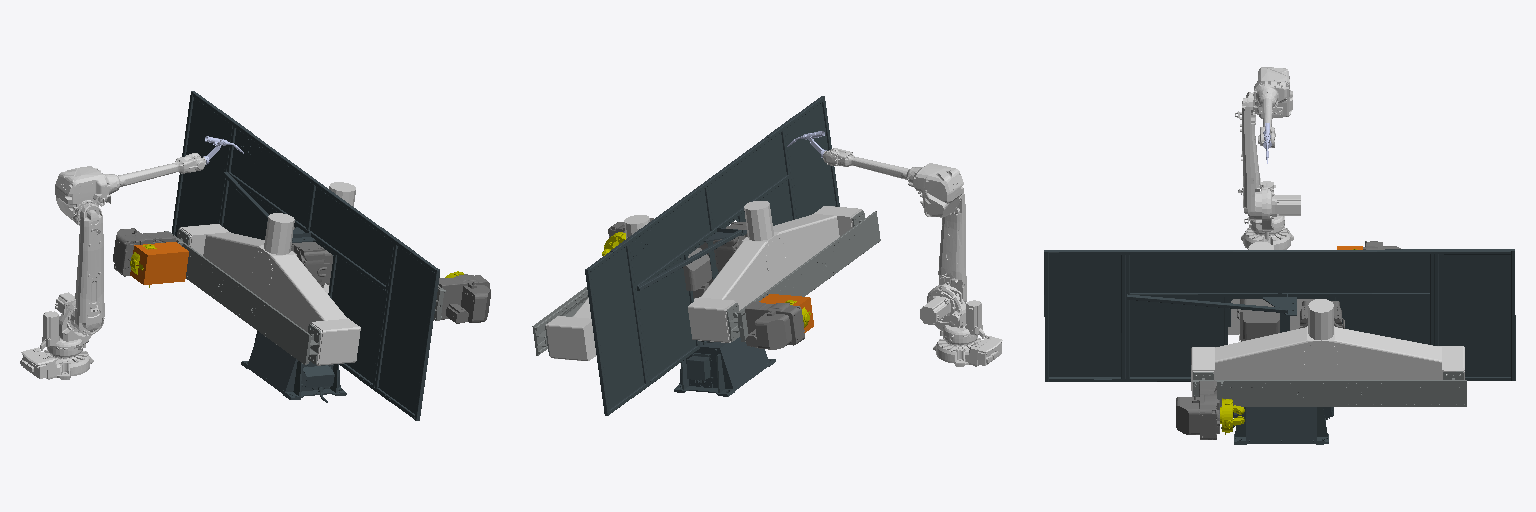
robot.urdf — monarc_irb4600_irbp_d600:
<?xml version="1.0" ?>
<robot name="monarc_irb4600_irbp_d600">
  <!-- MONARC cell: ABB IRB 4600-20/2.50 + IRBP D600 L2000 D1200 (2 stations). Generated by build_meshes.py + build_urdf.py. Do not hand-edit; see tgs_urdf_from_robotstudio_v1.md for the provenance of every number. -->
  <link name="base"/>
  <link name="linear_rail"/>
  <link name="base_link">
    <visual>
      <origin xyz="0 0 0" rpy="0 0 0"/>
      <geometry>
        <mesh filename="meshes/abb_base_m.stl"/>
      </geometry>
      <material name="base_link_material">
        <color rgba="0.8431 0.8431 0.8431 1.0"/>
      </material>
    </visual>
    <collision>
      <origin xyz="0 0 0" rpy="0 0 0"/>
      <geometry>
        <mesh filename="meshes/abb_base_m.stl"/>
      </geometry>
    </collision>
  </link>
  <link name="link_1">
    <visual>
      <origin xyz="0 0 0" rpy="0 0 0"/>
      <geometry>
        <mesh filename="meshes/abb_link_1_m.stl"/>
      </geometry>
      <material name="link_1_material">
        <color rgba="0.8431 0.8431 0.8431 1.0"/>
      </material>
    </visual>
    <collision>
      <origin xyz="0 0 0" rpy="0 0 0"/>
      <geometry>
        <mesh filename="meshes/abb_link_1_m.stl"/>
      </geometry>
    </collision>
  </link>
  <link name="link_2">
    <visual>
      <origin xyz="0 0 0" rpy="0 0 0"/>
      <geometry>
        <mesh filename="meshes/abb_link_2_m.stl"/>
      </geometry>
      <material name="link_2_material">
        <color rgba="0.8431 0.8431 0.8431 1.0"/>
      </material>
    </visual>
    <collision>
      <origin xyz="0 0 0" rpy="0 0 0"/>
      <geometry>
        <mesh filename="meshes/abb_link_2_m.stl"/>
      </geometry>
    </collision>
  </link>
  <link name="link_3">
    <visual>
      <origin xyz="0 0 0" rpy="0 0 0"/>
      <geometry>
        <mesh filename="meshes/abb_link_3_m.stl"/>
      </geometry>
      <material name="link_3_material">
        <color rgba="0.8431 0.8431 0.8431 1.0"/>
      </material>
    </visual>
    <collision>
      <origin xyz="0 0 0" rpy="0 0 0"/>
      <geometry>
        <mesh filename="meshes/abb_link_3_m.stl"/>
      </geometry>
    </collision>
  </link>
  <link name="link_4">
    <visual>
      <origin xyz="0 0 0" rpy="0 0 0"/>
      <geometry>
        <mesh filename="meshes/abb_link_4_m.stl"/>
      </geometry>
      <material name="link_4_material">
        <color rgba="0.8431 0.8431 0.8431 1.0"/>
      </material>
    </visual>
    <collision>
      <origin xyz="0 0 0" rpy="0 0 0"/>
      <geometry>
        <mesh filename="meshes/abb_link_4_m.stl"/>
      </geometry>
    </collision>
  </link>
  <link name="link_5">
    <visual>
      <origin xyz="0 0 0" rpy="0 0 0"/>
      <geometry>
        <mesh filename="meshes/abb_link_5_m.stl"/>
      </geometry>
      <material name="link_5_material">
        <color rgba="0.8431 0.8431 0.8431 1.0"/>
      </material>
    </visual>
    <collision>
      <origin xyz="0 0 0" rpy="0 0 0"/>
      <geometry>
        <mesh filename="meshes/abb_link_5_m.stl"/>
      </geometry>
    </collision>
  </link>
  <link name="link_6">
    <visual>
      <origin xyz="0 0 0" rpy="0 0 0"/>
      <geometry>
        <mesh filename="meshes/abb_link_6_m.stl"/>
      </geometry>
      <material name="link_6_material">
        <color rgba="0.8431 0.8431 0.8431 1.0"/>
      </material>
    </visual>
    <collision>
      <origin xyz="0 0 0" rpy="0 0 0"/>
      <geometry>
        <mesh filename="meshes/abb_link_6_m.stl"/>
      </geometry>
    </collision>
  </link>
  <link name="flange"/>
  <link name="tool0"/>
  <link name="torch">
    <visual>
      <origin xyz="0 0 0" rpy="0 0 0"/>
      <geometry>
        <mesh filename="meshes/torch_m.stl"/>
      </geometry>
      <material name="torch_material">
        <color rgba="0.7922 0.8196 0.9333 1.0"/>
      </material>
    </visual>
    <collision>
      <origin xyz="0 0 0" rpy="0 0 0"/>
      <geometry>
        <mesh filename="meshes/torch_m.stl"/>
      </geometry>
    </collision>
  </link>
  <link name="tcp_torch"/>
  <link name="positioner_base">
    <visual>
      <origin xyz="0 0 0" rpy="0 0 0"/>
      <geometry>
        <mesh filename="meshes/pos_interchange_base_m.stl"/>
      </geometry>
      <material name="positioner_base_material">
        <color rgba="0.2824 0.3294 0.349 1.0"/>
      </material>
    </visual>
    <collision>
      <origin xyz="0 0 0" rpy="0 0 0"/>
      <geometry>
        <mesh filename="meshes/pos_interchange_base_m.stl"/>
      </geometry>
    </collision>
  </link>
  <link name="positioner_index"/>
  <link name="pos_turntable">
    <visual>
      <origin xyz="0 0 0" rpy="0 0 0"/>
      <geometry>
        <mesh filename="meshes/pos_turntable_m.stl"/>
      </geometry>
      <material name="pos_turntable_material">
        <color rgba="0.8431 0.8431 0.8431 1.0"/>
      </material>
    </visual>
    <collision>
      <origin xyz="0 0 0" rpy="0 0 0"/>
      <geometry>
        <mesh filename="meshes/pos_turntable_m.stl"/>
      </geometry>
    </collision>
  </link>
  <link name="pos_bearing_stn1">
    <visual>
      <origin xyz="0 0 0" rpy="0 0 0"/>
      <geometry>
        <mesh filename="meshes/pos_bearing_stn1_m.stl"/>
      </geometry>
      <material name="pos_bearing_stn1_material">
        <color rgba="0.498 0.498 0.498 1.0"/>
      </material>
    </visual>
    <collision>
      <origin xyz="0 0 0" rpy="0 0 0"/>
      <geometry>
        <mesh filename="meshes/pos_bearing_stn1_m.stl"/>
      </geometry>
    </collision>
  </link>
  <link name="pos_bearing_stn2">
    <visual>
      <origin xyz="0 0 0" rpy="0 0 0"/>
      <geometry>
        <mesh filename="meshes/pos_bearing_stn2_m.stl"/>
      </geometry>
      <material name="pos_bearing_stn2_material">
        <color rgba="0.498 0.498 0.498 1.0"/>
      </material>
    </visual>
    <collision>
      <origin xyz="0 0 0" rpy="0 0 0"/>
      <geometry>
        <mesh filename="meshes/pos_bearing_stn2_m.stl"/>
      </geometry>
    </collision>
  </link>
  <link name="pos_cover">
    <visual>
      <origin xyz="0 0 0" rpy="0 0 0"/>
      <geometry>
        <mesh filename="meshes/pos_cover_m.stl"/>
      </geometry>
      <material name="pos_cover_material">
        <color rgba="0.2824 0.3294 0.349 1.0"/>
      </material>
    </visual>
    <collision>
      <origin xyz="0 0 0" rpy="0 0 0"/>
      <geometry>
        <mesh filename="meshes/pos_cover_m.stl"/>
      </geometry>
    </collision>
  </link>
  <link name="stn1_tilt"/>
  <link name="stn1_arm">
    <visual>
      <origin xyz="0 0 0" rpy="0 0 0"/>
      <geometry>
        <mesh filename="meshes/stn1_arm_m.stl"/>
      </geometry>
      <material name="stn1_arm_material">
        <color rgba="0.8431 0.8431 0.8431 1.0"/>
      </material>
    </visual>
    <collision>
      <origin xyz="0 0 0" rpy="0 0 0"/>
      <geometry>
        <mesh filename="meshes/stn1_arm_m.stl"/>
      </geometry>
    </collision>
  </link>
  <link name="stn1_bed">
    <visual>
      <origin xyz="0 0 0" rpy="0 0 0"/>
      <geometry>
        <mesh filename="meshes/stn1_bed_m.stl"/>
      </geometry>
      <material name="stn1_bed_material">
        <color rgba="0.5294 0.549 0.549 1.0"/>
      </material>
    </visual>
    <collision>
      <origin xyz="0 0 0" rpy="0 0 0"/>
      <geometry>
        <mesh filename="meshes/stn1_bed_m.stl"/>
      </geometry>
    </collision>
  </link>
  <link name="stn1_rotate_drive">
    <visual>
      <origin xyz="0 0 0" rpy="0 0 0"/>
      <geometry>
        <mesh filename="meshes/stn1_rotate_drive_m.stl"/>
      </geometry>
      <material name="stn1_rotate_drive_material">
        <color rgba="0.498 0.498 0.498 1.0"/>
      </material>
    </visual>
    <collision>
      <origin xyz="0 0 0" rpy="0 0 0"/>
      <geometry>
        <mesh filename="meshes/stn1_rotate_drive_m.stl"/>
      </geometry>
    </collision>
  </link>
  <link name="stn1_plate">
    <visual>
      <origin xyz="0 0 0" rpy="0 0 0"/>
      <geometry>
        <mesh filename="meshes/stn1_headstock_m.stl"/>
      </geometry>
      <material name="stn1_plate_material">
        <color rgba="0.7529 0.7529 0 1.0"/>
      </material>
    </visual>
    <collision>
      <origin xyz="0 0 0" rpy="0 0 0"/>
      <geometry>
        <mesh filename="meshes/stn1_headstock_m.stl"/>
      </geometry>
    </collision>
  </link>
  <link name="stn2_tilt"/>
  <link name="stn2_arm">
    <visual>
      <origin xyz="0 0 0" rpy="0 0 0"/>
      <geometry>
        <mesh filename="meshes/stn2_arm_m.stl"/>
      </geometry>
      <material name="stn2_arm_material">
        <color rgba="0.8431 0.8431 0.8431 1.0"/>
      </material>
    </visual>
    <collision>
      <origin xyz="0 0 0" rpy="0 0 0"/>
      <geometry>
        <mesh filename="meshes/stn2_arm_m.stl"/>
      </geometry>
    </collision>
  </link>
  <link name="stn2_bed">
    <visual>
      <origin xyz="0 0 0" rpy="0 0 0"/>
      <geometry>
        <mesh filename="meshes/stn2_bed_m.stl"/>
      </geometry>
      <material name="stn2_bed_material">
        <color rgba="0.5294 0.549 0.549 1.0"/>
      </material>
    </visual>
    <collision>
      <origin xyz="0 0 0" rpy="0 0 0"/>
      <geometry>
        <mesh filename="meshes/stn2_bed_m.stl"/>
      </geometry>
    </collision>
  </link>
  <link name="stn2_rotate_drive">
    <visual>
      <origin xyz="0 0 0" rpy="0 0 0"/>
      <geometry>
        <mesh filename="meshes/stn2_rotate_drive_m.stl"/>
      </geometry>
      <material name="stn2_rotate_drive_material">
        <color rgba="0.498 0.498 0.498 1.0"/>
      </material>
    </visual>
    <collision>
      <origin xyz="0 0 0" rpy="0 0 0"/>
      <geometry>
        <mesh filename="meshes/stn2_rotate_drive_m.stl"/>
      </geometry>
    </collision>
  </link>
  <link name="stn2_plate">
    <visual>
      <origin xyz="0 0 0" rpy="0 0 0"/>
      <geometry>
        <mesh filename="meshes/stn2_headstock_m.stl"/>
      </geometry>
      <material name="stn2_plate_material">
        <color rgba="0.7529 0.7529 0 1.0"/>
      </material>
    </visual>
    <collision>
      <origin xyz="0 0 0" rpy="0 0 0"/>
      <geometry>
        <mesh filename="meshes/stn2_headstock_m.stl"/>
      </geometry>
    </collision>
  </link>
  <link name="stn1_tailstock">
    <visual>
      <origin xyz="0 0 0" rpy="0 0 0"/>
      <geometry>
        <mesh filename="meshes/stn1_tailstock_m.stl"/>
      </geometry>
      <material name="stn1_tailstock_material">
        <color rgba="0.85 0.45 0.1 1.0"/>
      </material>
    </visual>
    <collision>
      <origin xyz="0 0 0" rpy="0 0 0"/>
      <geometry>
        <mesh filename="meshes/stn1_tailstock_m.stl"/>
      </geometry>
    </collision>
  </link>
  <link name="stn2_tailstock">
    <visual>
      <origin xyz="0 0 0" rpy="0 0 0"/>
      <geometry>
        <mesh filename="meshes/stn2_tailstock_m.stl"/>
      </geometry>
      <material name="stn2_tailstock_material">
        <color rgba="0.85 0.45 0.1 1.0"/>
      </material>
    </visual>
    <collision>
      <origin xyz="0 0 0" rpy="0 0 0"/>
      <geometry>
        <mesh filename="meshes/stn2_tailstock_m.stl"/>
      </geometry>
    </collision>
  </link>
  <joint name="linear_rail_joint" type="prismatic">
    <origin xyz="0 0 0" rpy="0 0 0"/>
    <parent link="base"/>
    <child link="linear_rail"/>
    <axis xyz="0 1 0"/>
    <limit lower="0" upper="0" effort="0" velocity="3.141593"/>
  </joint>
  <joint name="linear_rail_to_base_link" type="fixed">
    <origin xyz="0 0 0" rpy="0 0 0"/>
    <parent link="linear_rail"/>
    <child link="base_link"/>
  </joint>
  <joint name="joint_1" type="revolute">
    <origin xyz="0 0 0.495" rpy="0 0 0"/>
    <parent link="base_link"/>
    <child link="link_1"/>
    <axis xyz="0 0 1"/>
    <limit lower="-3.14159265" upper="3.14159265" effort="0" velocity="3.141593"/>
  </joint>
  <joint name="joint_2" type="revolute">
    <origin xyz="0.175 0 0" rpy="-1.57079633 -1.57079633 0"/>
    <parent link="link_1"/>
    <child link="link_2"/>
    <axis xyz="0 0 1"/>
    <limit lower="-1.57079633" upper="2.61799388" effort="0" velocity="3.141593"/>
  </joint>
  <joint name="joint_3" type="revolute">
    <origin xyz="1.095 0 0" rpy="0 0 0"/>
    <parent link="link_2"/>
    <child link="link_3"/>
    <axis xyz="0 0 1"/>
    <limit lower="-3.14159265" upper="1.30899694" effort="0" velocity="3.141593"/>
  </joint>
  <joint name="joint_4" type="revolute">
    <origin xyz="0.175 1.2305 0" rpy="-1.57079633 0 0"/>
    <parent link="link_3"/>
    <child link="link_4"/>
    <axis xyz="0 0 1"/>
    <limit lower="-6.98131701" upper="6.98131701" effort="0" velocity="3.141593"/>
  </joint>
  <joint name="joint_5" type="revolute">
    <origin xyz="0 0 0" rpy="-1.57079633 0 3.14159265"/>
    <parent link="link_4"/>
    <child link="link_5"/>
    <axis xyz="0 0 1"/>
    <limit lower="-2.0943951" upper="2.0943951" effort="0" velocity="3.141593"/>
  </joint>
  <joint name="joint_6" type="revolute">
    <origin xyz="0 0 0" rpy="1.57079633 0 0"/>
    <parent link="link_5"/>
    <child link="link_6"/>
    <axis xyz="0 0 1"/>
    <limit lower="-6.98131701" upper="6.98131701" effort="0" velocity="3.141593"/>
  </joint>
  <joint name="link_6-flange" type="fixed">
    <origin xyz="0 0 0.085" rpy="0 0 0"/>
    <parent link="link_6"/>
    <child link="flange"/>
  </joint>
  <joint name="flange-tool0" type="fixed">
    <origin xyz="0 0 0" rpy="0 0 0"/>
    <parent link="flange"/>
    <child link="tool0"/>
  </joint>
  <joint name="tool0-torch" type="fixed">
    <origin xyz="0 0 0" rpy="0 0 0"/>
    <parent link="tool0"/>
    <child link="torch"/>
  </joint>
  <joint name="tool0-tcp_torch" type="fixed">
    <origin xyz="0.0272 0 0.4344" rpy="0 0.785398163 0"/>
    <parent link="tool0"/>
    <child link="tcp_torch"/>
  </joint>
  <joint name="base-positioner_base" type="fixed">
    <origin xyz="1.222672 0.794993 -0.576539" rpy="0.000587 0.147569 0.002287"/>
    <parent link="base"/>
    <child link="positioner_base"/>
  </joint>
  <joint name="positioner_index_joint" type="fixed">
    <origin xyz="1.31 -0.568 1.25" rpy="0 -0 -1.57079633"/>
    <parent link="positioner_base"/>
    <child link="positioner_index"/>
  </joint>
  <joint name="stn1_tilt_joint" type="revolute">
    <origin xyz="0.288 -1.31 0" rpy="1.57079633 1.57079633 0"/>
    <parent link="positioner_index"/>
    <child link="stn1_tilt"/>
    <axis xyz="0 0 1"/>
    <limit lower="-3.15904595" upper="3.15904595" effort="0" velocity="3.141593"/>
  </joint>
  <joint name="stn1_plate_joint" type="revolute">
    <origin xyz="0.25 0 0" rpy="-1.57079633 0 0"/>
    <parent link="stn1_tilt"/>
    <child link="stn1_plate"/>
    <axis xyz="0 0 1"/>
    <limit lower="-20" upper="20" effort="0" velocity="3.141593"/>
  </joint>
  <joint name="stn2_tilt_joint" type="fixed">
    <origin xyz="-0.288 1.309 0" rpy="-1.57079633 1.57079633 0"/>
    <parent link="positioner_index"/>
    <child link="stn2_tilt"/>
  </joint>
  <joint name="stn2_plate_joint" type="fixed">
    <origin xyz="0.25 0 0" rpy="-1.57079633 -0 0"/>
    <parent link="stn2_tilt"/>
    <child link="stn2_plate"/>
  </joint>
  <joint name="stn1_tailstock_joint" type="prismatic">
    <origin xyz="0.25 -0.856 0" rpy="0 0 0"/>
    <parent link="stn1_tilt"/>
    <child link="stn1_tailstock"/>
    <axis xyz="0 1 0"/>
    <limit lower="-2.5" upper="2.5" effort="0" velocity="3.141593"/>
  </joint>
  <joint name="stn2_tailstock_joint" type="fixed">
    <origin xyz="0.25 0.344 0" rpy="0 0 0"/>
    <parent link="stn2_tilt"/>
    <child link="stn2_tailstock"/>
  </joint>
  <joint name="positioner_index-pos_turntable" type="fixed">
    <origin xyz="0 0 0" rpy="0 0 0"/>
    <parent link="positioner_index"/>
    <child link="pos_turntable"/>
  </joint>
  <joint name="positioner_index-pos_bearing_stn1" type="fixed">
    <origin xyz="0 0 0" rpy="0 0 0"/>
    <parent link="positioner_index"/>
    <child link="pos_bearing_stn1"/>
  </joint>
  <joint name="positioner_index-pos_bearing_stn2" type="fixed">
    <origin xyz="0 0 0" rpy="0 0 0"/>
    <parent link="positioner_index"/>
    <child link="pos_bearing_stn2"/>
  </joint>
  <joint name="positioner_index-pos_cover" type="fixed">
    <origin xyz="0 0 0" rpy="0 0 0"/>
    <parent link="positioner_index"/>
    <child link="pos_cover"/>
  </joint>
  <joint name="stn1_tilt-stn1_arm" type="fixed">
    <origin xyz="0 0 0" rpy="0 0 0"/>
    <parent link="stn1_tilt"/>
    <child link="stn1_arm"/>
  </joint>
  <joint name="stn1_tilt-stn1_bed" type="fixed">
    <origin xyz="0 0 0" rpy="0 0 0"/>
    <parent link="stn1_tilt"/>
    <child link="stn1_bed"/>
  </joint>
  <joint name="stn1_tilt-stn1_rotate_drive" type="fixed">
    <origin xyz="0 0 0" rpy="0 0 0"/>
    <parent link="stn1_tilt"/>
    <child link="stn1_rotate_drive"/>
  </joint>
  <joint name="stn2_tilt-stn2_arm" type="fixed">
    <origin xyz="0 0 0" rpy="0 0 0"/>
    <parent link="stn2_tilt"/>
    <child link="stn2_arm"/>
  </joint>
  <joint name="stn2_tilt-stn2_bed" type="fixed">
    <origin xyz="0 0 0" rpy="0 0 0"/>
    <parent link="stn2_tilt"/>
    <child link="stn2_bed"/>
  </joint>
  <joint name="stn2_tilt-stn2_rotate_drive" type="fixed">
    <origin xyz="0 0 0" rpy="0 0 0"/>
    <parent link="stn2_tilt"/>
    <child link="stn2_rotate_drive"/>
  </joint>
</robot>

--- Facts derived from the render (not from the file) ---
The picture shows the robot from 3 angles, left to right: view 1: azimuth 30°, elevation 25°; view 2: azimuth 150°, elevation 25°; view 3: azimuth 270°, elevation 25°; orthographic projection.
Robot: monarc_irb4600_irbp_d600 — 31 links, 30 joints (8 revolute, 2 prismatic, 20 fixed); root link base; default pose: every joint at zero.
Visible links, largest first — view 1: pos_cover, stn1_arm, stn1_bed, positioner_base, link_2, link_3, stn2_rotate_drive, link_1, stn1_tailstock, base_link, stn1_rotate_drive, link_4 (+1 smaller); view 2: pos_cover, stn1_arm, stn1_bed, positioner_base, link_1, stn2_arm, stn1_rotate_drive, link_3, link_2, base_link, link_4, stn2_bed (+3 smaller); view 3: pos_cover, stn2_arm, stn2_bed, positioner_base, stn2_rotate_drive, link_2, link_1, link_3, pos_bearing_stn1, stn1_arm, base_link, stn2_plate (+1 smaller).
Boxes of the visible links, left/top/right/bottom form: pos_cover: left=172, top=91, right=439, bottom=420; stn1_arm: left=179, top=213, right=360, bottom=365; stn1_bed: left=164, top=229, right=320, bottom=364; positioner_base: left=241, top=331, right=346, bottom=402; link_2: left=75, top=203, right=104, bottom=335; link_3: left=55, top=166, right=116, bottom=225; stn2_rotate_drive: left=439, top=274, right=490, bottom=323; link_1: left=40, top=292, right=91, bottom=358; stn1_tailstock: left=130, top=242, right=188, bottom=284; base_link: left=20, top=347, right=93, bottom=379; stn1_rotate_drive: left=113, top=228, right=176, bottom=276; link_4: left=112, top=153, right=205, bottom=190; pos_cover: left=585, top=96, right=839, bottom=415; stn1_arm: left=688, top=201, right=861, bottom=342; stn1_bed: left=726, top=210, right=880, bottom=341; positioner_base: left=674, top=337, right=775, bottom=396; link_1: left=920, top=282, right=984, bottom=345; stn2_arm: left=546, top=215, right=649, bottom=360; stn1_rotate_drive: left=745, top=302, right=804, bottom=349; link_3: left=908, top=163, right=963, bottom=217; link_2: left=938, top=193, right=966, bottom=303; base_link: left=933, top=335, right=1002, bottom=366; link_4: left=823, top=148, right=915, bottom=182; stn2_bed: left=532, top=287, right=588, bottom=355; pos_cover: left=1044, top=249, right=1515, bottom=381; stn2_arm: left=1191, top=299, right=1464, bottom=396; stn2_bed: left=1193, top=371, right=1466, bottom=406; positioner_base: left=1221, top=407, right=1333, bottom=444; stn2_rotate_drive: left=1176, top=380, right=1219, bottom=439; link_2: left=1235, top=92, right=1261, bottom=219; link_1: left=1244, top=181, right=1300, bottom=238; link_3: left=1253, top=67, right=1292, bottom=118; pos_bearing_stn1: left=1237, top=299, right=1279, bottom=341; stn1_arm: left=1228, top=242, right=1314, bottom=334; base_link: left=1241, top=216, right=1293, bottom=249; stn2_plate: left=1220, top=398, right=1244, bottom=434.
Size in the robot's own frame: 4.57 by 4.54 by 2.82 metres.
Meshes: 23 distinct files referenced, 22 mesh visuals loaded (22 binary STL); not drawn: 1 (reference not matched to a file when rendering).
